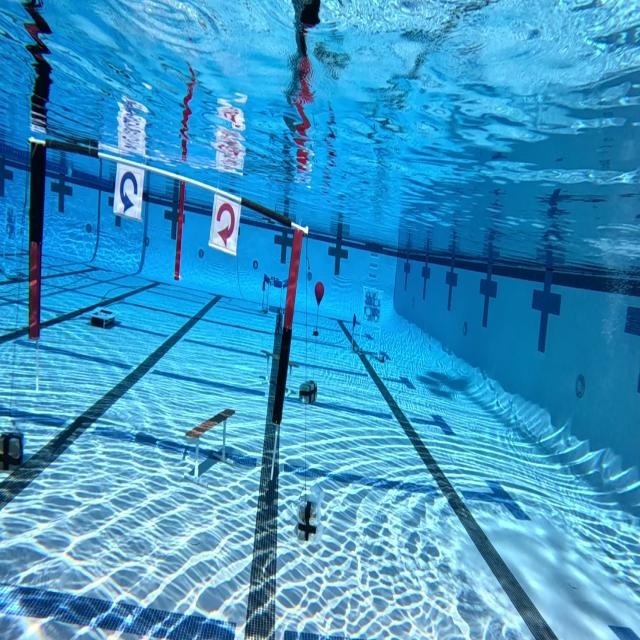blue_side: (113, 164, 144, 217)
red_side: (208, 188, 244, 256)
